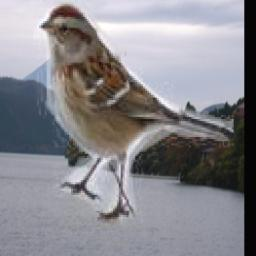Sparrow: (34, 0, 236, 228)
